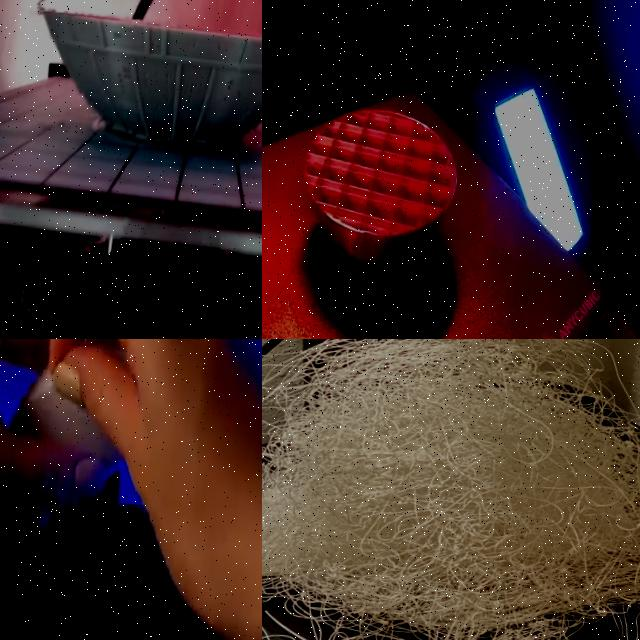spaghetti: (262, 339, 640, 640)
